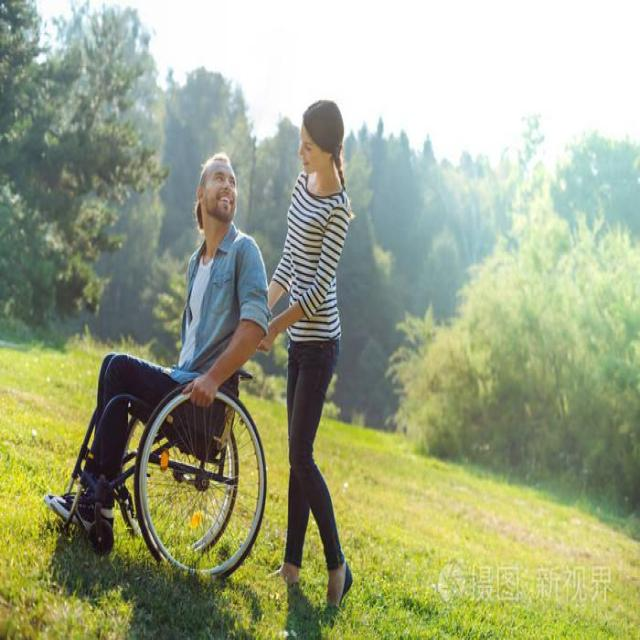wheelchairs: (35, 303, 275, 596)
